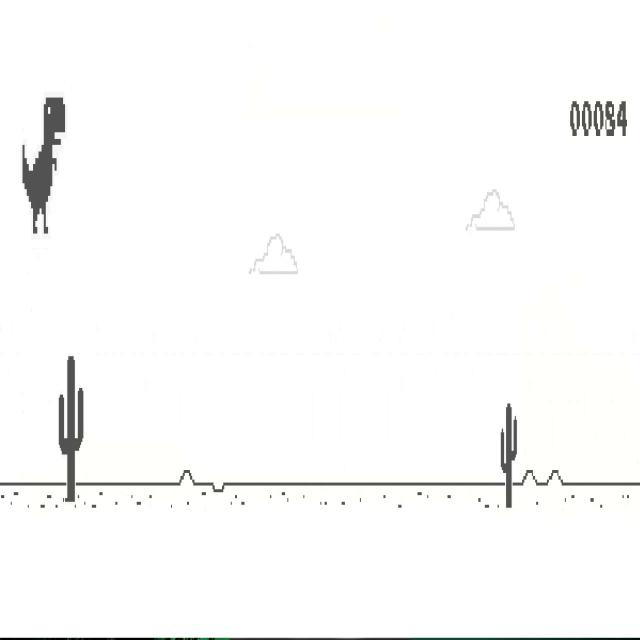cacto: (58, 355, 84, 503), (500, 403, 518, 509)
dino: (22, 95, 66, 236)
